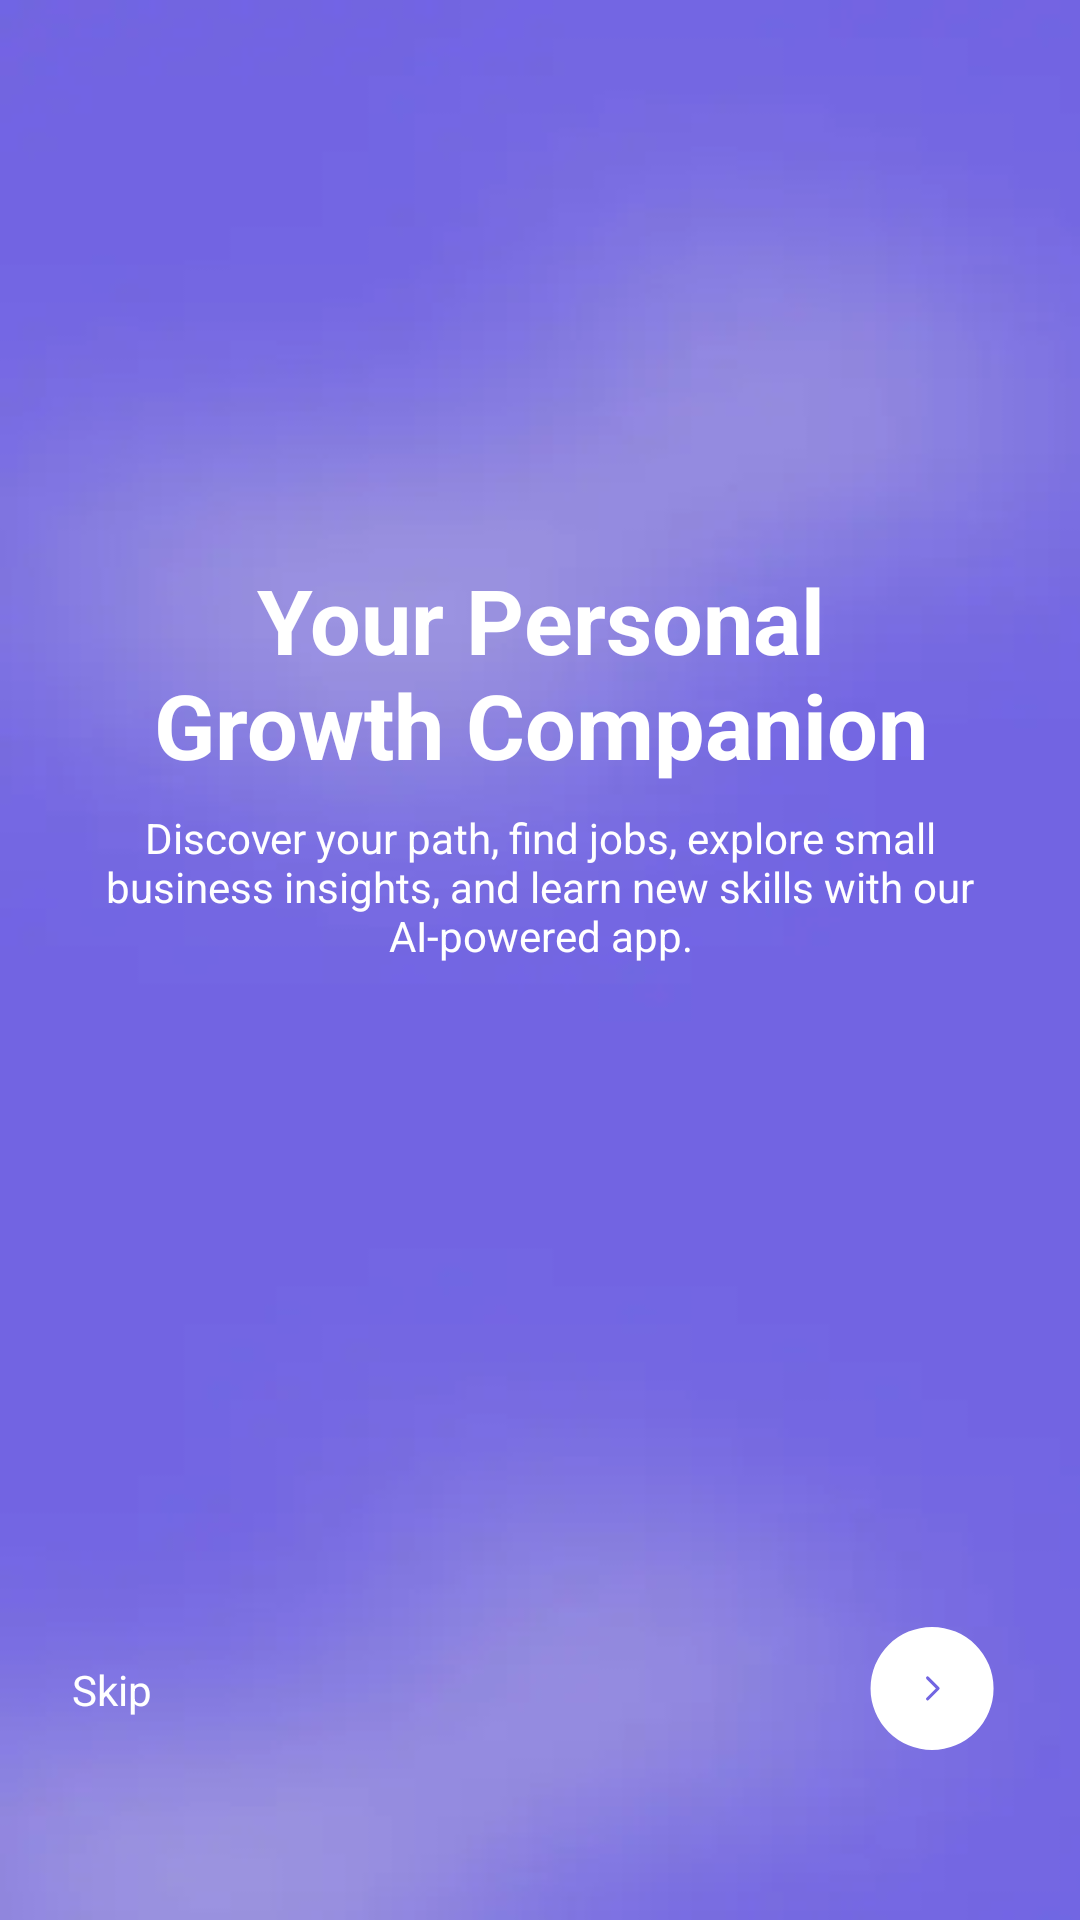

Icon bounding boxes for this 1080 × 1920 phone screenshot, format (x1, y1, x2, y2):
next: (870, 1627, 994, 1750)
